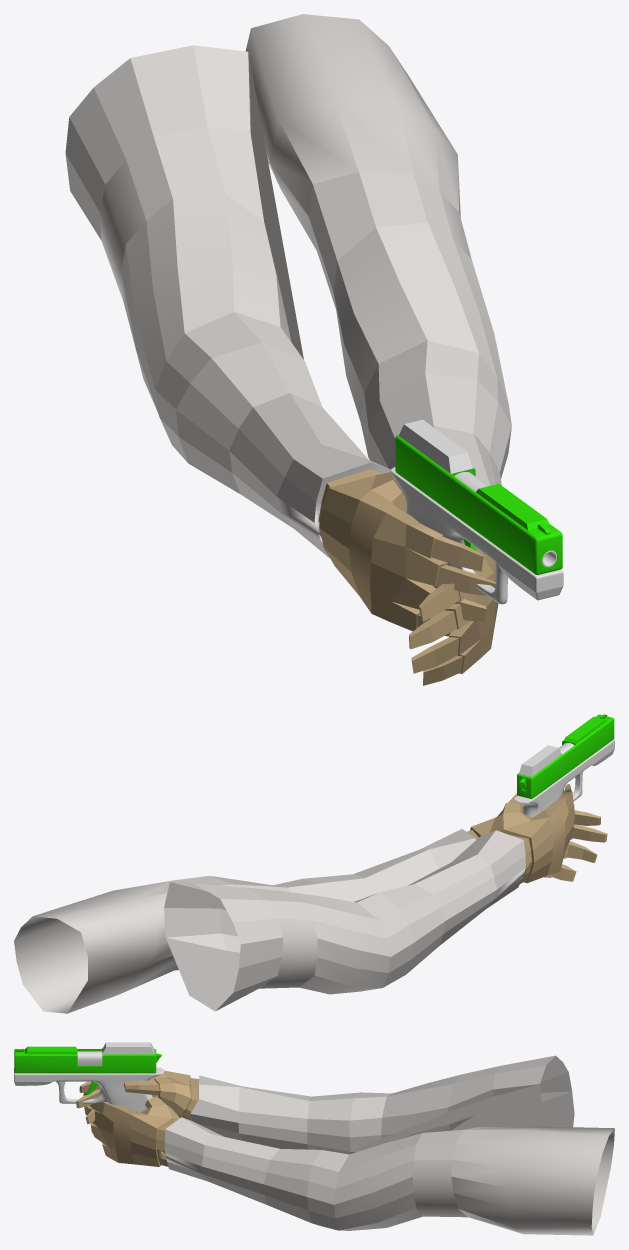
The model's file is maos_com_pistol.fbx.
3 renders of one model, top to bottom at view 1: azimuth 30°, elevation 25°; view 2: azimuth 150°, elevation 25°; view 3: azimuth 270°, elevation 25°, orthographic. The views are drawn at different scales.
Visible parts, largest first — view 1: Arm1, Arm1.001, Slider.002, Base.002, parte cima arma cima; view 2: Arm1, Arm1.001, Slider.002, Base.002, parte cima arma cima; view 3: Arm1.001, Arm1, Slider.002, Base.002, parte cima arma cima, Barel.002.
Part boxes in pixels (x1,y1,x2,y2): Arm1: (65, 45, 495, 636); Arm1.001: (245, 14, 511, 685); Slider.002: (395, 435, 562, 574); Base.002: (390, 467, 563, 604); parte cima arma cima: (398, 419, 472, 473); Arm1: (164, 784, 574, 1011); Arm1.001: (14, 810, 607, 1013); Slider.002: (517, 714, 614, 798); Base.002: (514, 739, 614, 817); parte cima arma cima: (519, 745, 561, 776); Arm1.001: (83, 1092, 614, 1235); Arm1: (76, 1055, 574, 1154); Slider.002: (14, 1046, 156, 1073); Base.002: (14, 1067, 164, 1112); parte cima arma cima: (102, 1042, 154, 1054); Barel.002: (77, 1051, 102, 1065).
Size of the model in its own units: 166 by 95.65 by 340.
